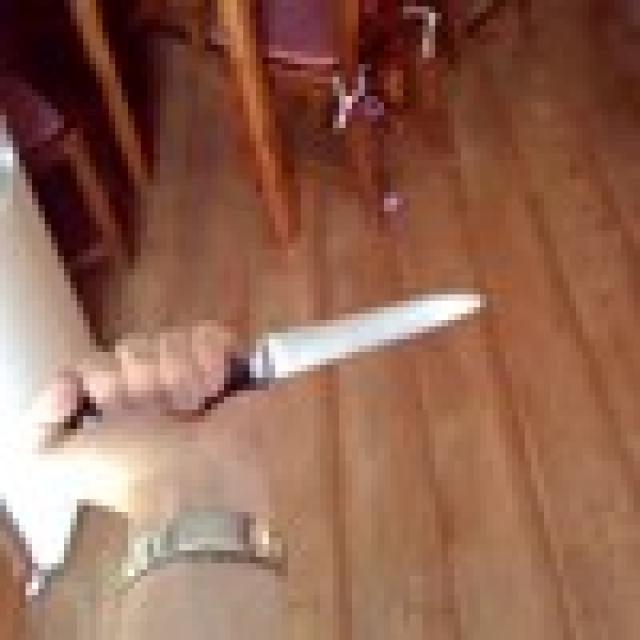Weapons: (227, 269, 503, 410)
